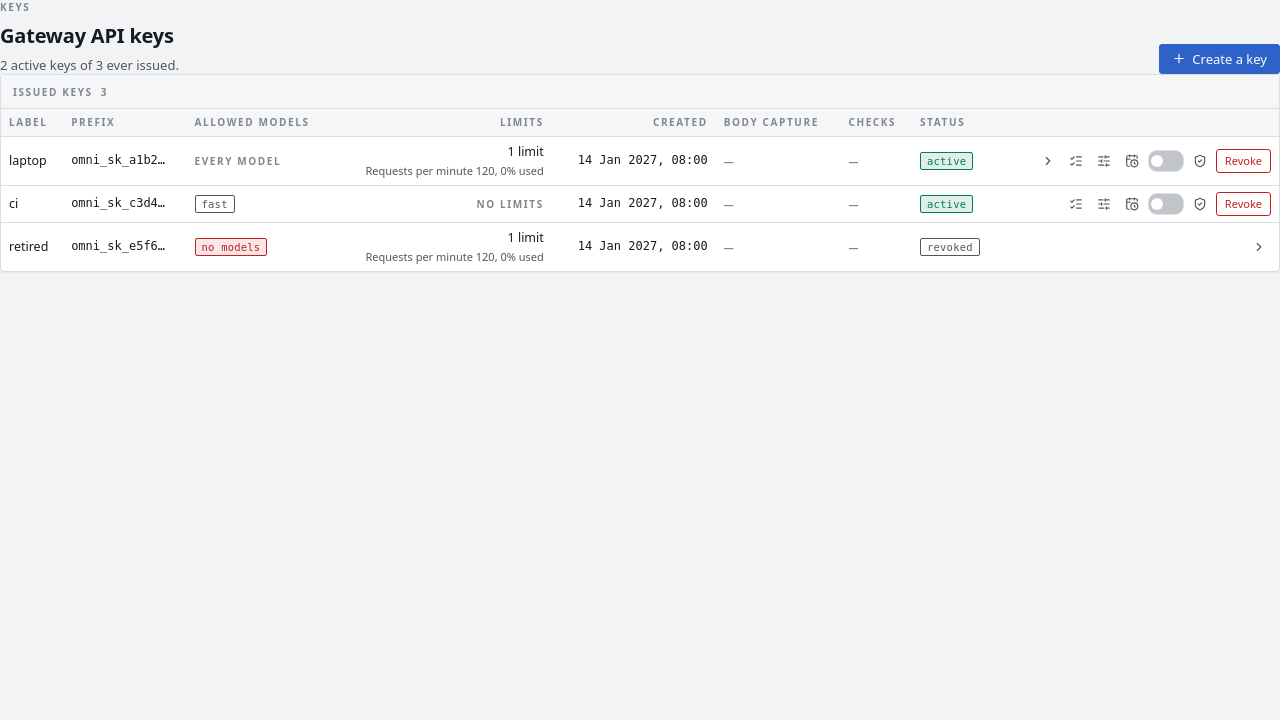
Test: KeysBoard › the limit matrix is folded away until it is asked for
This screenshot has width=1280, height=720.
Step 1. Click the button "Create a key" → (1220, 59), box x1=1159 y1=44 x2=1279 y2=74
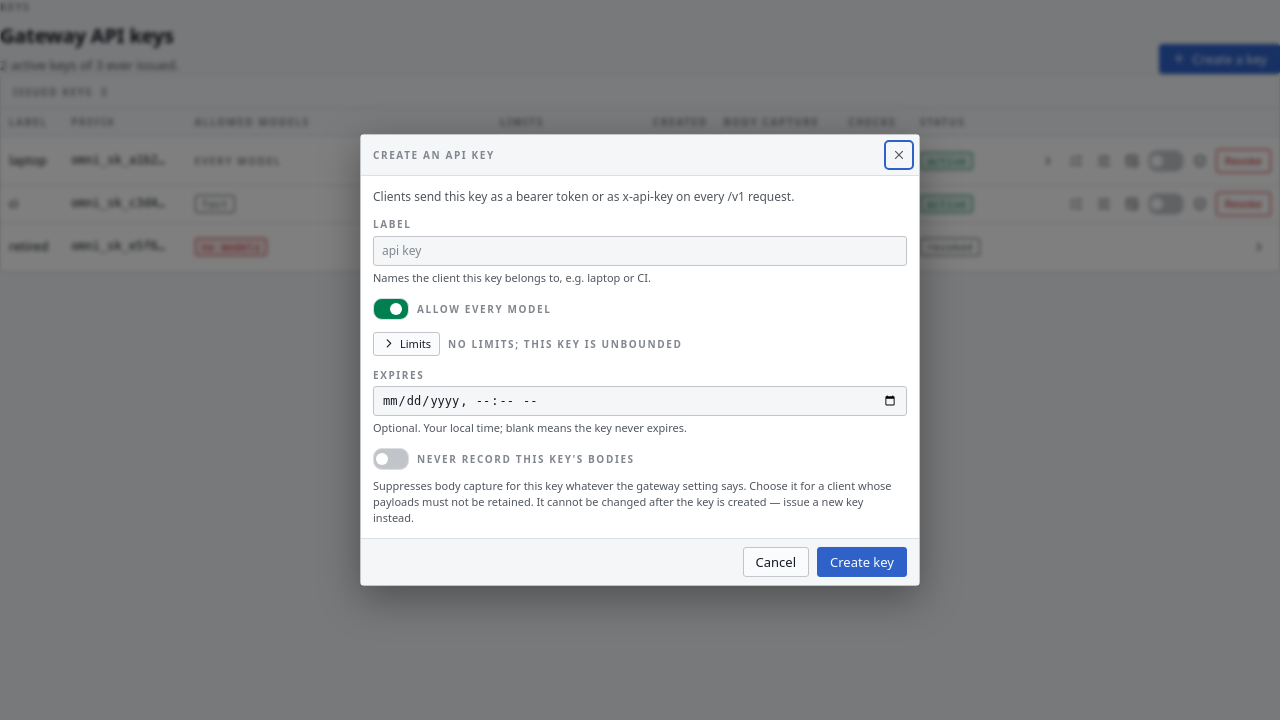
Check: the text "no limits; this key is unbounded" is shown, box x1=448 y1=336 x2=682 y2=351
Step 2. Click the button "Limits" → (406, 344), box x1=373 y1=332 x2=440 y2=356
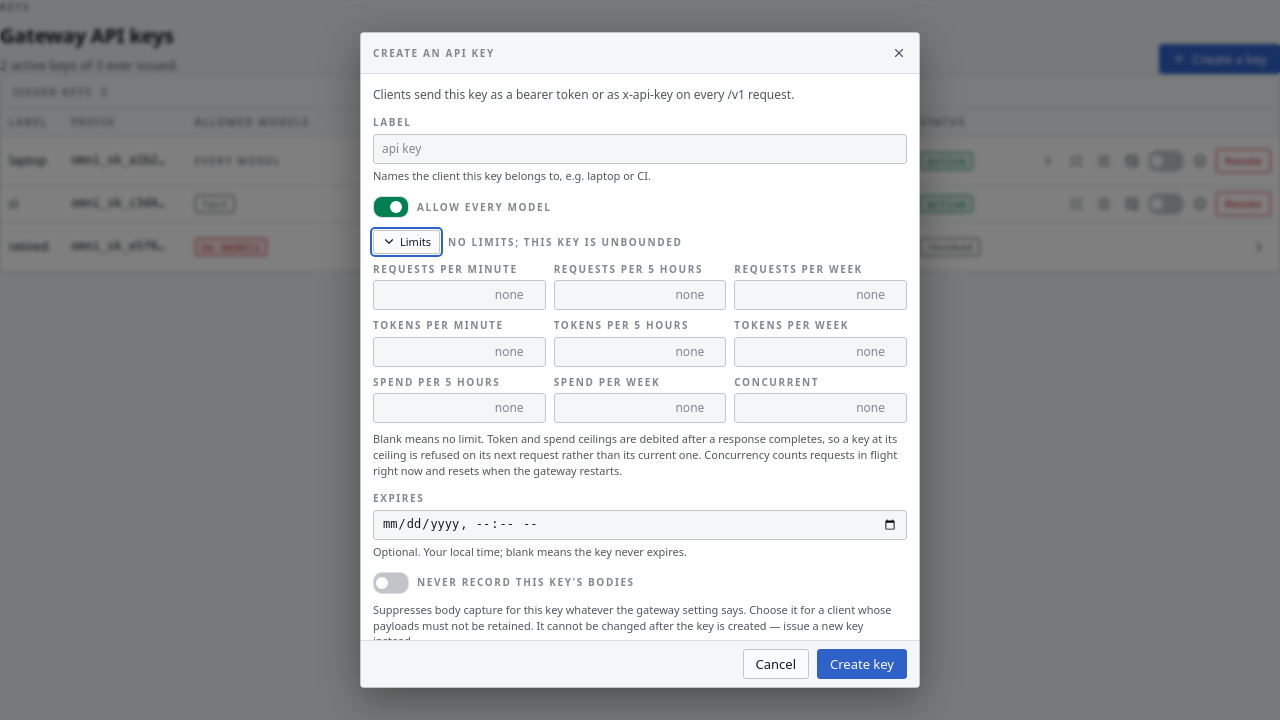
Check: the number field labelled "Requests per minute" is shown, box x1=373 y1=280 x2=546 y2=310
